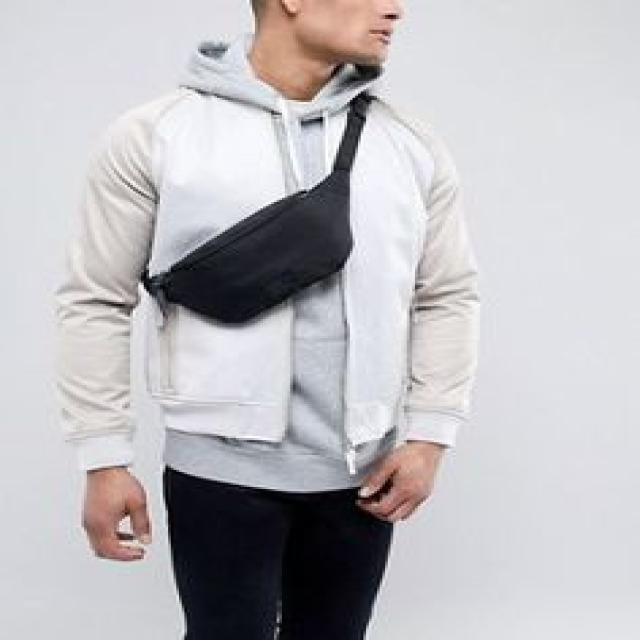Handbag: (133, 162, 369, 329)
